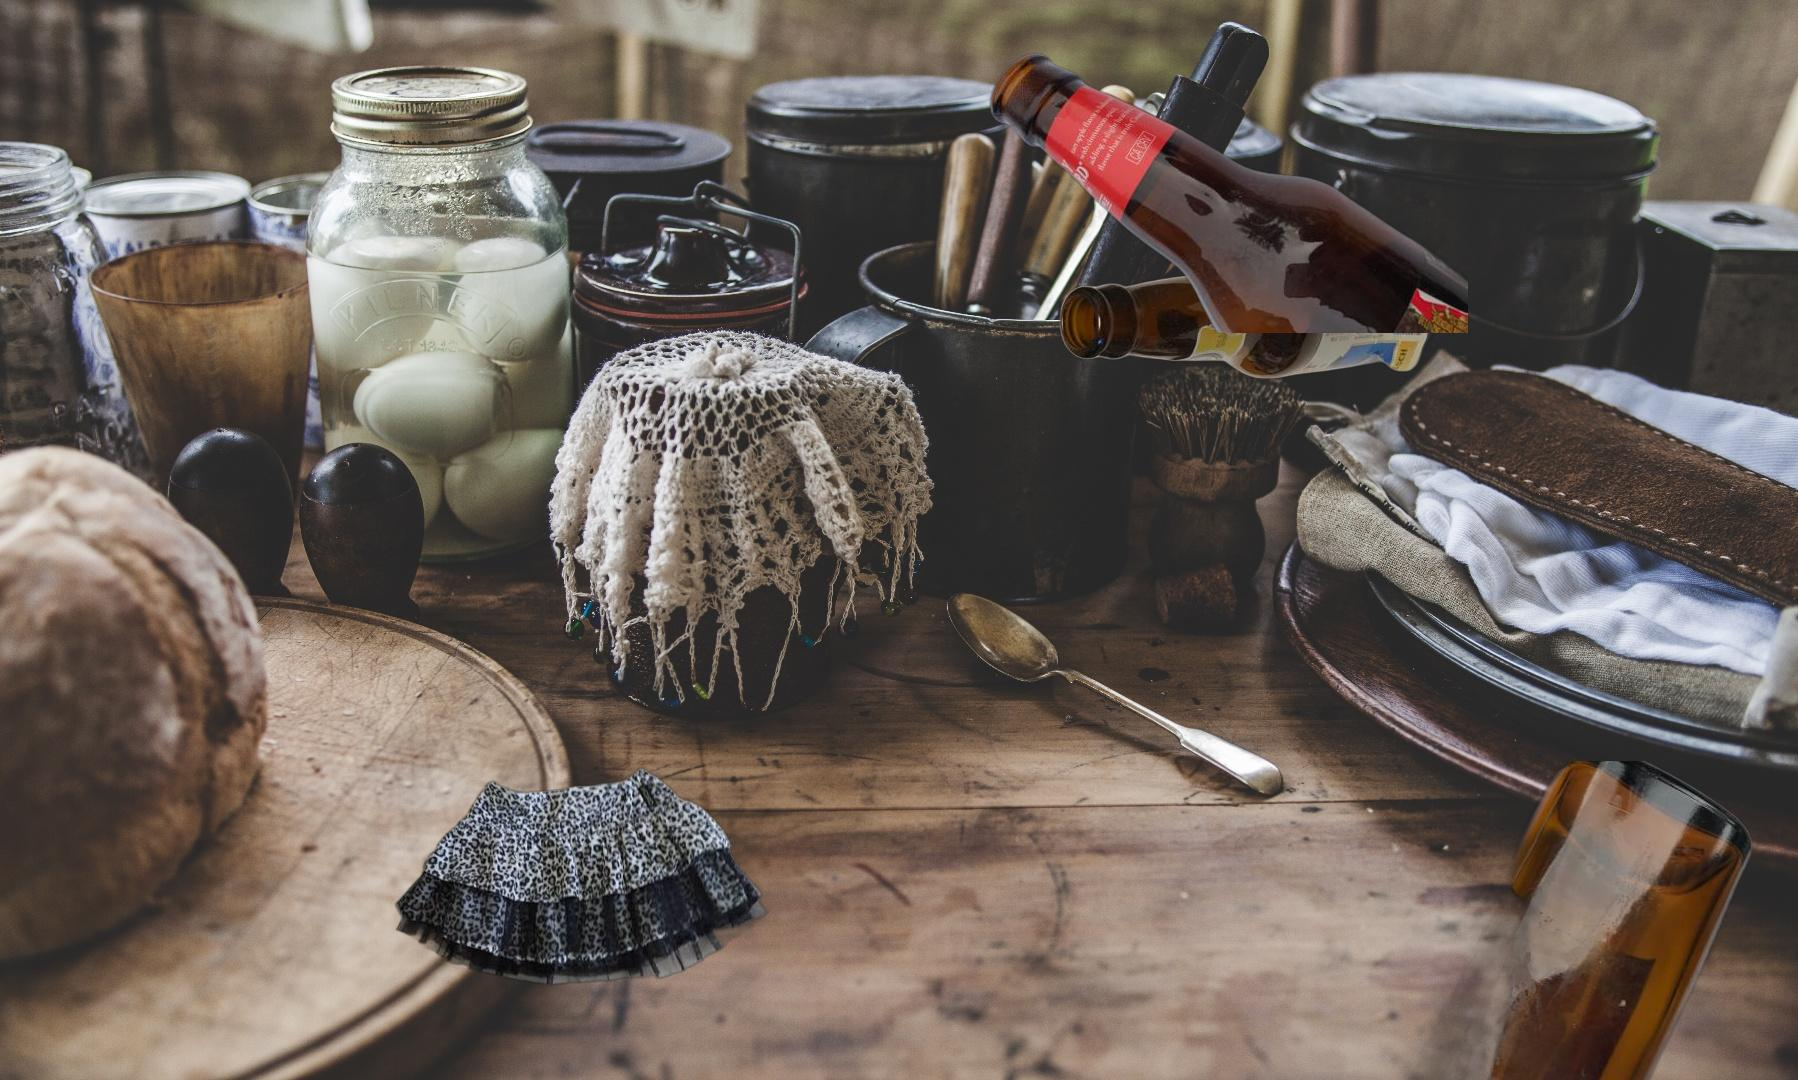clothes: (392, 764, 771, 988)
glass: (1361, 762, 1795, 1080), (986, 51, 1468, 333), (1054, 248, 1444, 381)
